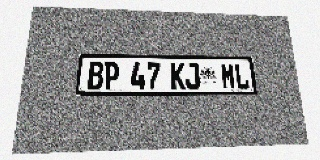4: (131, 62, 146, 90)
7: (146, 62, 161, 89)
B: (87, 61, 104, 90)
J: (185, 63, 200, 89)
K: (170, 63, 185, 89)
L: (234, 63, 250, 89)
M: (220, 63, 236, 89)
P: (103, 62, 119, 90)
